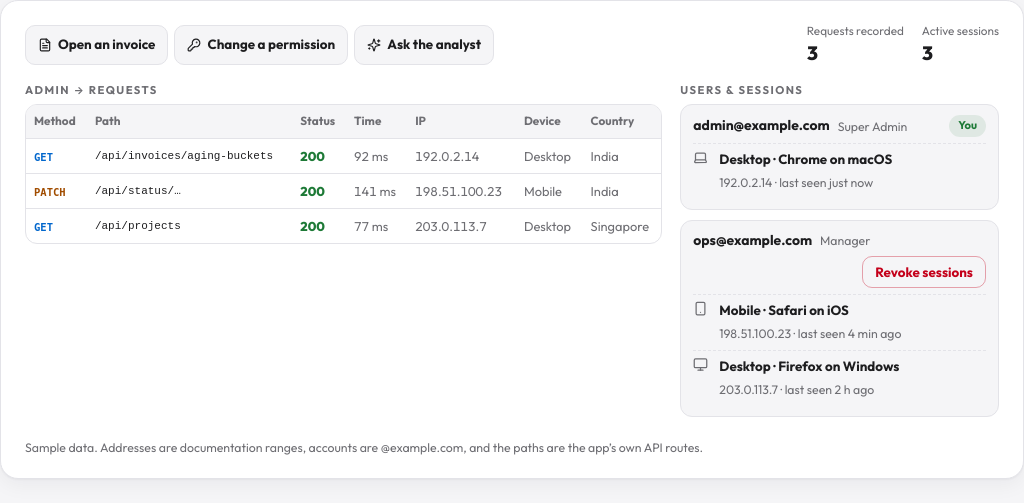
the audit sandbox › moves a revoked account to Revoked and refuses its next request
This screenshot has width=1024, height=503.
Click the button "Revoke sessions" at (924, 272), box [862,256,986,288]
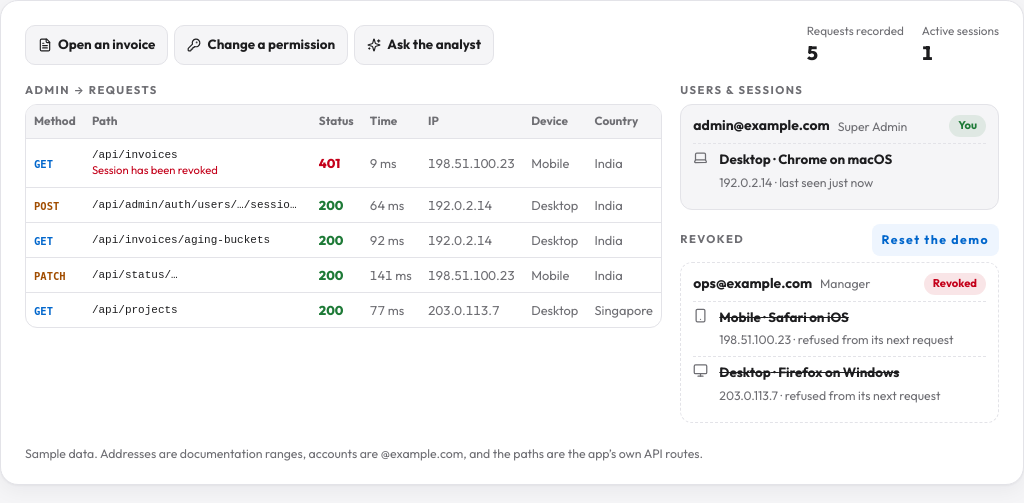
Expected: the text "Revoked" is shown, [680,232,744,246]
Expected: the text "Session has been revoked" is shown, [92,163,218,177]
Expected: the text "401" is shown, [319,155,340,171]
